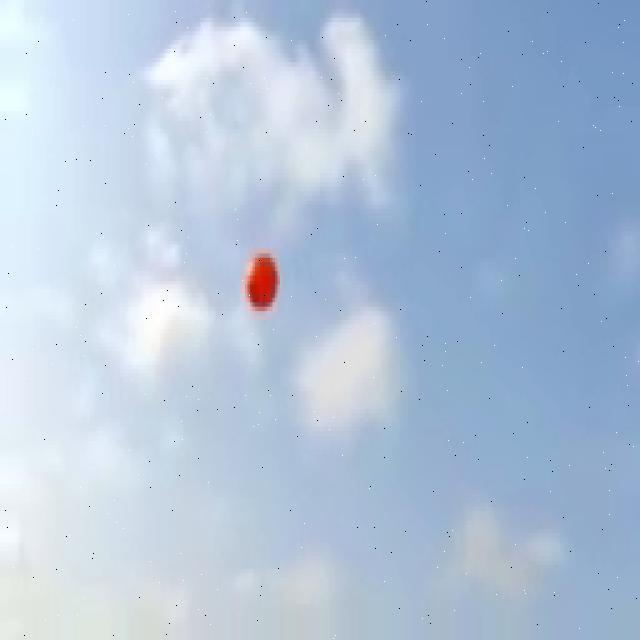red: (244, 250, 279, 311)
